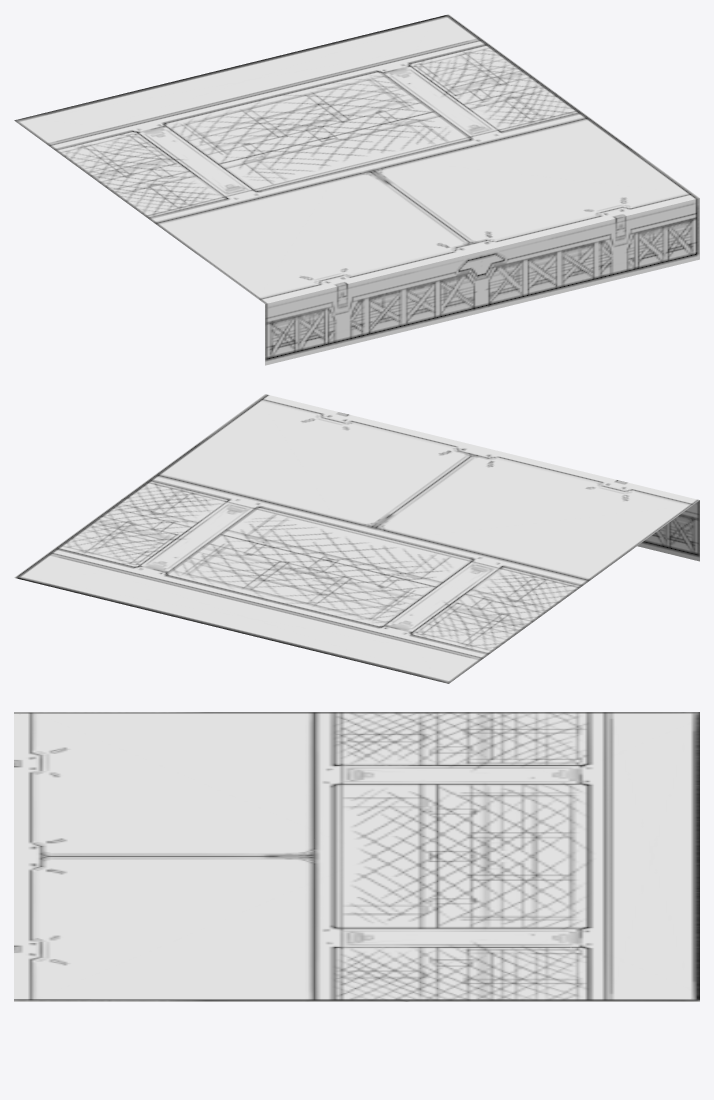
File: WFpCube1.fbx
3 renders of one model, top to bottom at view 1: azimuth 30°, elevation 25°; view 2: azimuth 150°, elevation 25°; view 3: azimuth 270°, elevation 25°, orthographic. The views are drawn at different scales.
Visible parts, largest first — view 1: pCube1; view 2: pCube1; view 3: pCube1.
Boxes of the visible parts, left/top/right/bottom form: pCube1: left=14, top=14, right=699, bottom=365; pCube1: left=14, top=394, right=699, bottom=683; pCube1: left=14, top=712, right=699, bottom=1001.
Bounding box in the file's own units: 100 × 13.5 × 100.
1 material, 1 textured.
